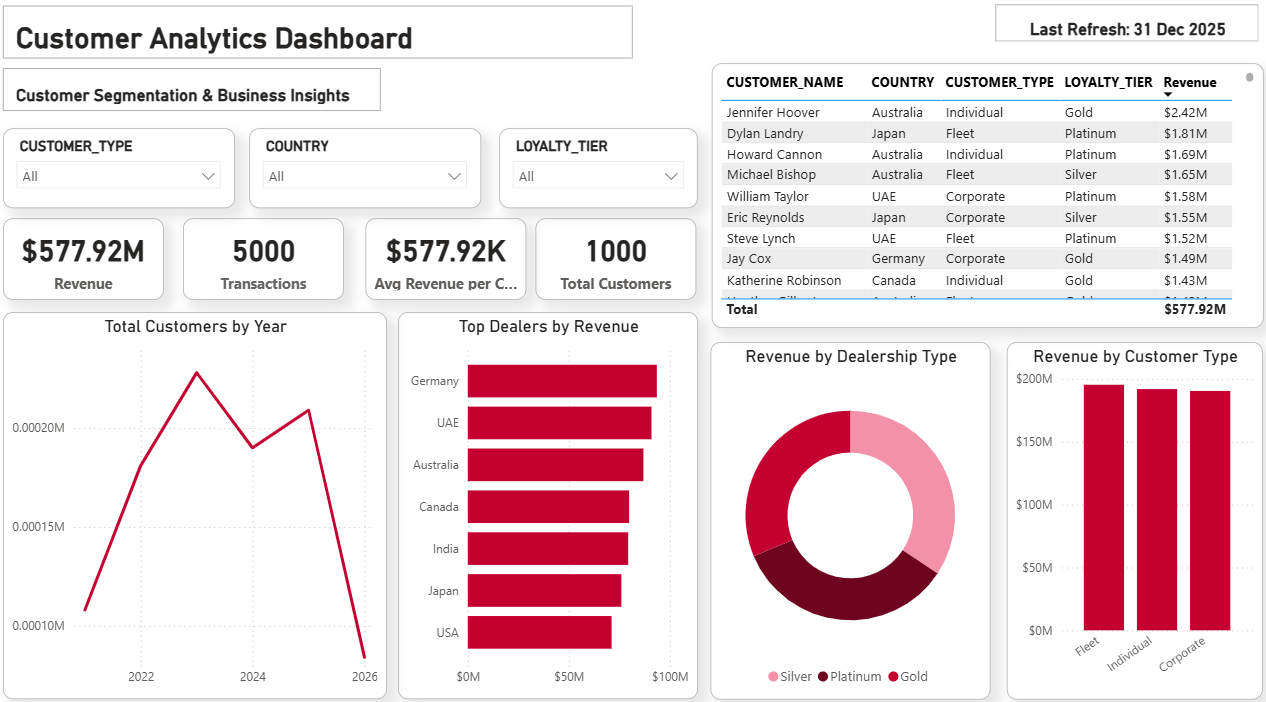

Layout of this report page (visuals, bound fields, positions):
{"tool":"powerbi","page":{"name":"Customer Analytics","canvas":[1280,720],"ordinal":2},"visuals":[{"type":"card","title":"Total Revenue","fields":{"Values":["_Measures.Total Revenue"]},"box":[4.7,226.6,160.9,81.3],"z":0},{"type":"card","fields":{"Values":["_Measures.Total Customers"]},"box":[537.5,226.6,160.9,81.3],"z":1000},{"type":"card","fields":{"Values":["_Measures.Avg Revenue per Customer"]},"box":[367.2,226.6,160.9,81.3],"z":2000},{"type":"card","fields":{"Values":["_Measures.Transactions"]},"box":[184.4,226.6,160.9,81.3],"z":3000},{"type":"clusteredBarChart","title":"Top Dealers by Revenue","fields":{"Y":["_Measures.Total Revenue"],"Category":["DIM_CUSTOMERS.COUNTRY"]},"box":[400,320,300,387.5],"z":4000},{"type":"clusteredColumnChart","title":"Revenue by Customer Type","fields":{"Y":["_Measures.Total Revenue"],"Category":["DIM_CUSTOMERS.CUSTOMER_TYPE"]},"box":[1008.8,350,256.2,357.5],"z":5000},{"type":"slicer","fields":{"Values":["DIM_CUSTOMERS.COUNTRY"]},"box":[251.7,136.7,231.7,80],"z":6000},{"type":"cardVisual","fields":{"Data":["_Measures.Last Refresh"]},"box":[992.8,7.6,273.2,47.1],"z":7000},{"type":"cardVisual","fields":{"Data":["_Measures.Customer Dashboard Title"]},"box":[0,8.3,640,63.3],"z":8000},{"type":"cardVisual","fields":{"Data":["_Measures.Customer Dashboard Subtitle"]},"box":[0,71.7,388.3,53.3],"z":9000},{"type":"slicer","fields":{"Values":["DIM_CUSTOMERS.LOYALTY_TIER"]},"box":[501.7,136.7,198.3,80],"z":10000},{"type":"slicer","fields":{"Values":["DIM_CUSTOMERS.CUSTOMER_TYPE"]},"box":[5,136.7,231.7,80],"z":11000},{"type":"donutChart","title":"Revenue by Dealership Type","fields":{"Y":["_Measures.Total Revenue"],"Category":["DIM_CUSTOMERS.LOYALTY_TIER"]},"box":[712.5,350,280,357.5],"z":12000},{"type":"tableEx","fields":{"Values":["DIM_CUSTOMERS.CUSTOMER_NAME","DIM_CUSTOMERS.COUNTRY","DIM_CUSTOMERS.CUSTOMER_TYPE","DIM_CUSTOMERS.LOYALTY_TIER","_Measures.Revenue"]},"box":[713.3,71.7,551.7,265],"z":13000},{"type":"lineChart","fields":{"Category":["DIM_CUSTOMERS.REGISTRATION_DATE.Variation.Date Hierarchy.Year","DIM_CUSTOMERS.REGISTRATION_DATE.Variation.Date Hierarchy.Quarter","DIM_CUSTOMERS.REGISTRATION_DATE.Variation.Date Hierarchy.Month","DIM_CUSTOMERS.REGISTRATION_DATE.Variation.Date Hierarchy.Day"],"Y":["_Measures.Total Customers"]},"box":[5,320,383.8,387.5],"z":15000}]}

Visuals, with their boxes in screenshot pixels (x1, y1, x2, y2), scaled from the page's 1280x720 canvas onto the 1266x702 screenshot:
"Total Revenue" card: [left=5, top=221, right=164, bottom=300]
card - _Measures.Total Customers: [left=532, top=221, right=691, bottom=300]
card - _Measures.Avg Revenue per Customer: [left=363, top=221, right=522, bottom=300]
card - _Measures.Transactions: [left=182, top=221, right=342, bottom=300]
"Top Dealers by Revenue" clusteredBarChart: [left=396, top=312, right=692, bottom=690]
"Revenue by Customer Type" clusteredColumnChart: [left=998, top=341, right=1251, bottom=690]
slicer - DIM_CUSTOMERS.COUNTRY: [left=249, top=133, right=478, bottom=211]
cardVisual - _Measures.Last Refresh: [left=982, top=7, right=1252, bottom=53]
cardVisual - _Measures.Customer Dashboard Title: [left=0, top=8, right=633, bottom=70]
cardVisual - _Measures.Customer Dashboard Subtitle: [left=0, top=70, right=384, bottom=122]
slicer - DIM_CUSTOMERS.LOYALTY_TIER: [left=496, top=133, right=692, bottom=211]
slicer - DIM_CUSTOMERS.CUSTOMER_TYPE: [left=5, top=133, right=234, bottom=211]
"Revenue by Dealership Type" donutChart: [left=705, top=341, right=982, bottom=690]
tableEx - DIM_CUSTOMERS.CUSTOMER_NAME x DIM_CUSTOMERS.COUNTRY: [left=705, top=70, right=1251, bottom=328]
lineChart - DIM_CUSTOMERS.REGISTRATION_DATE.Variation.Date Hierarchy.Year x DIM_CUSTOMERS.REGISTRATION_DATE.Variation.Date Hierarchy.Quarter: [left=5, top=312, right=385, bottom=690]
